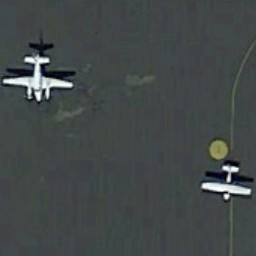Airplane: (1, 41, 85, 113), (197, 151, 254, 210)
